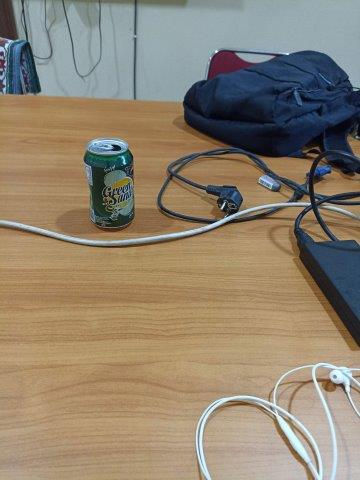kaleng: (83, 138, 135, 230)
